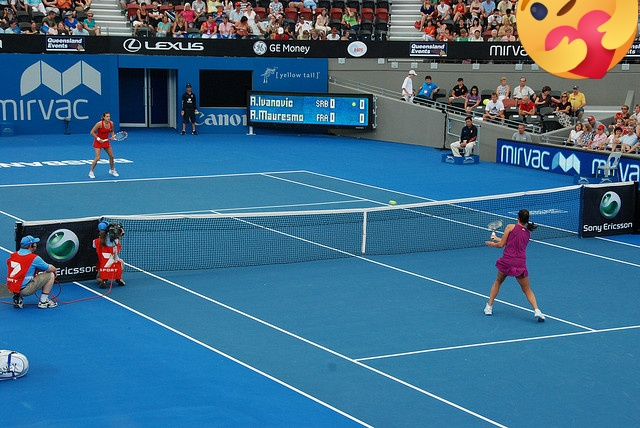care: (516, 0, 638, 79)
